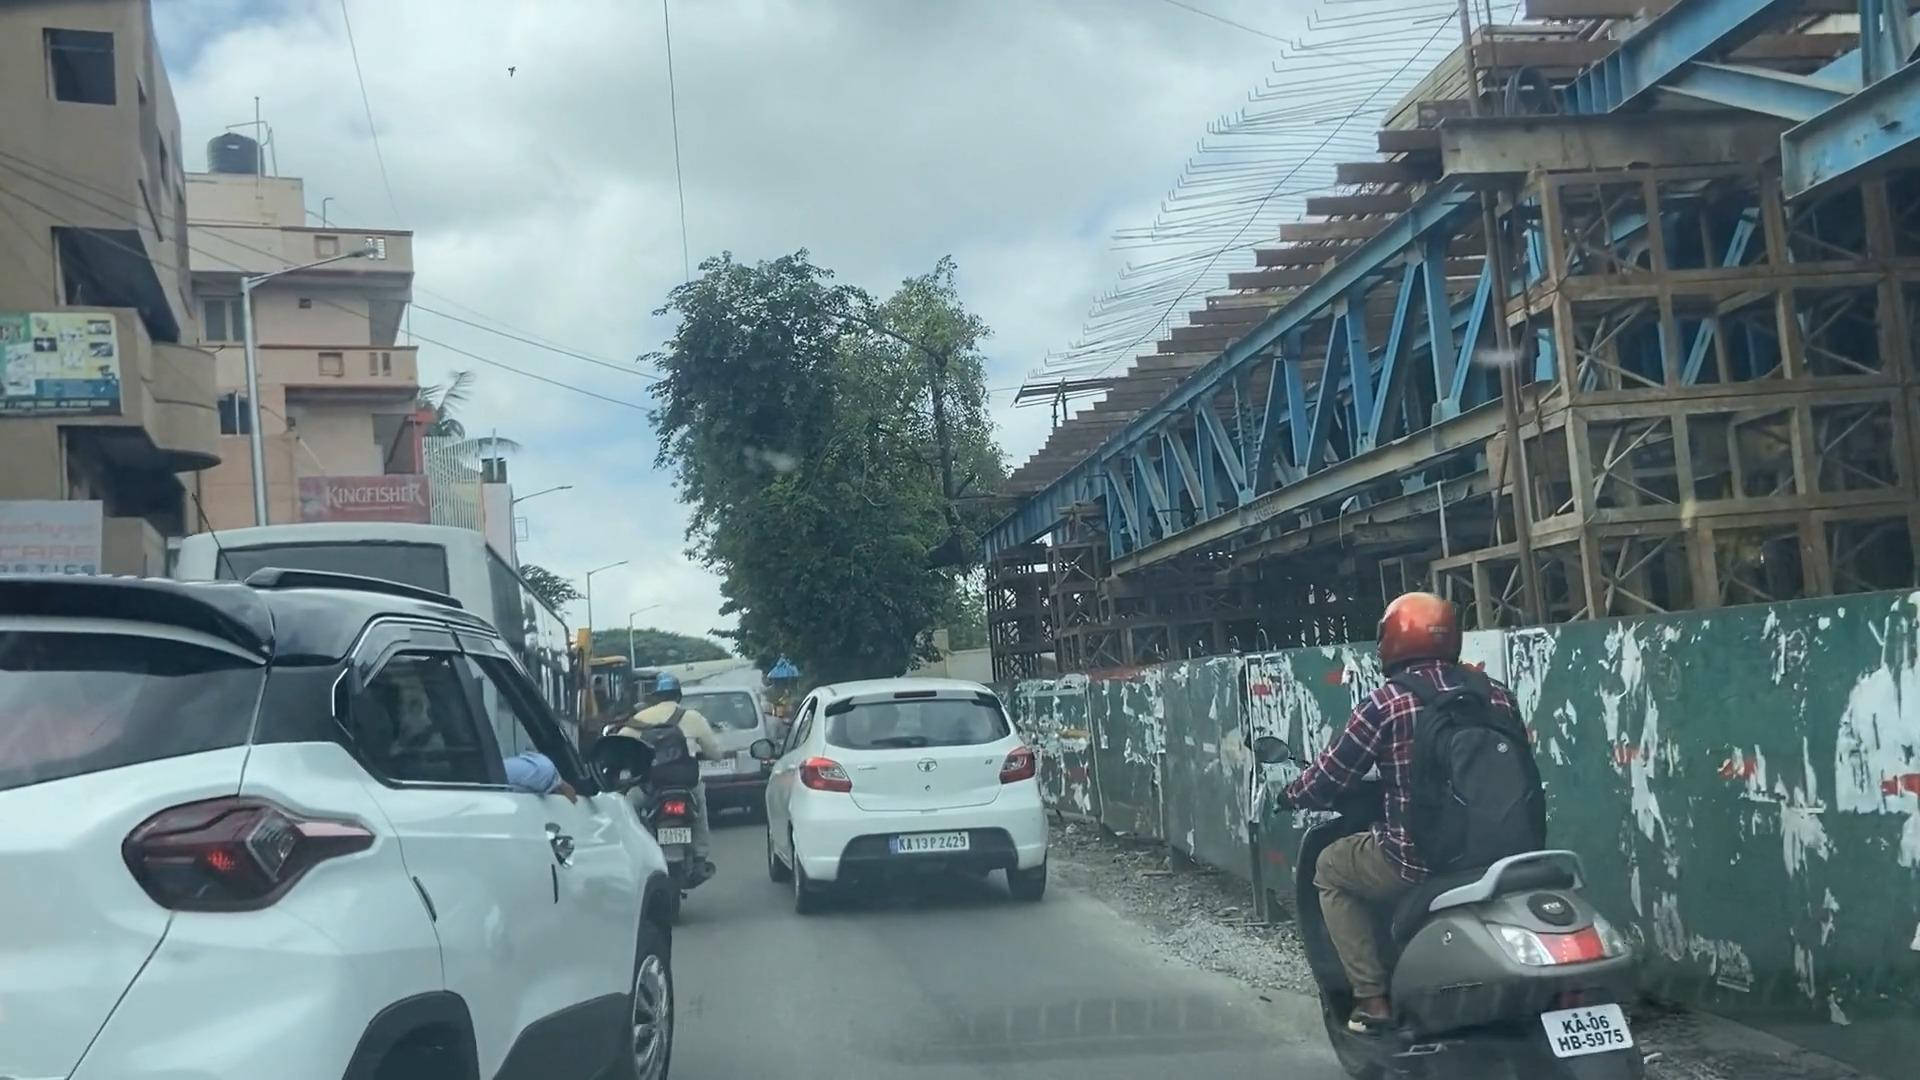LMV: (18, 576, 674, 1080), (1340, 592, 1590, 1079), (810, 686, 1036, 923)
